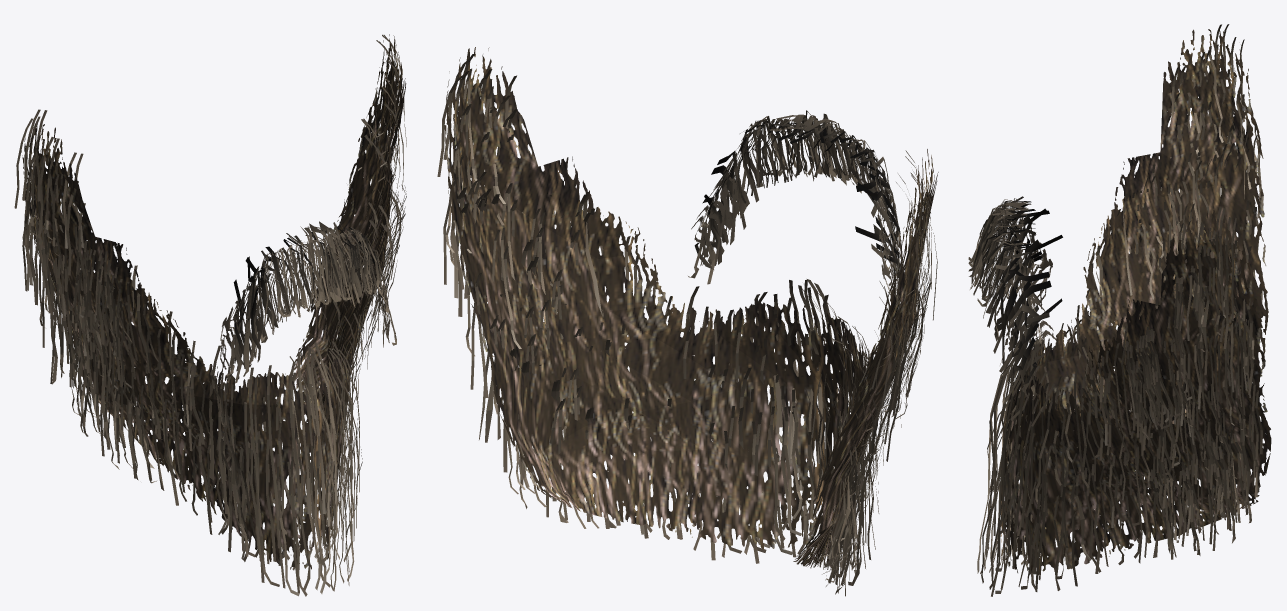
The model's file is ewb_beard_viking.glb.
3 renders of one model, left to right at view 1: azimuth 30°, elevation 25°; view 2: azimuth 150°, elevation 25°; view 3: azimuth 270°, elevation 25°, orthographic. The views are drawn at different scales.
Visible parts, largest first — view 1: ewb_beard_viking; view 2: ewb_beard_viking; view 3: ewb_beard_viking.
Boxes of the visible parts, left/top/right/bottom form: ewb_beard_viking: left=14, top=34, right=406, bottom=596; ewb_beard_viking: left=437, top=47, right=938, bottom=596; ewb_beard_viking: left=968, top=24, right=1271, bottom=596.
Bounding box in the file's own units: 0.1522 × 0.1726 × 0.0994.
1 material, 1 textured.
